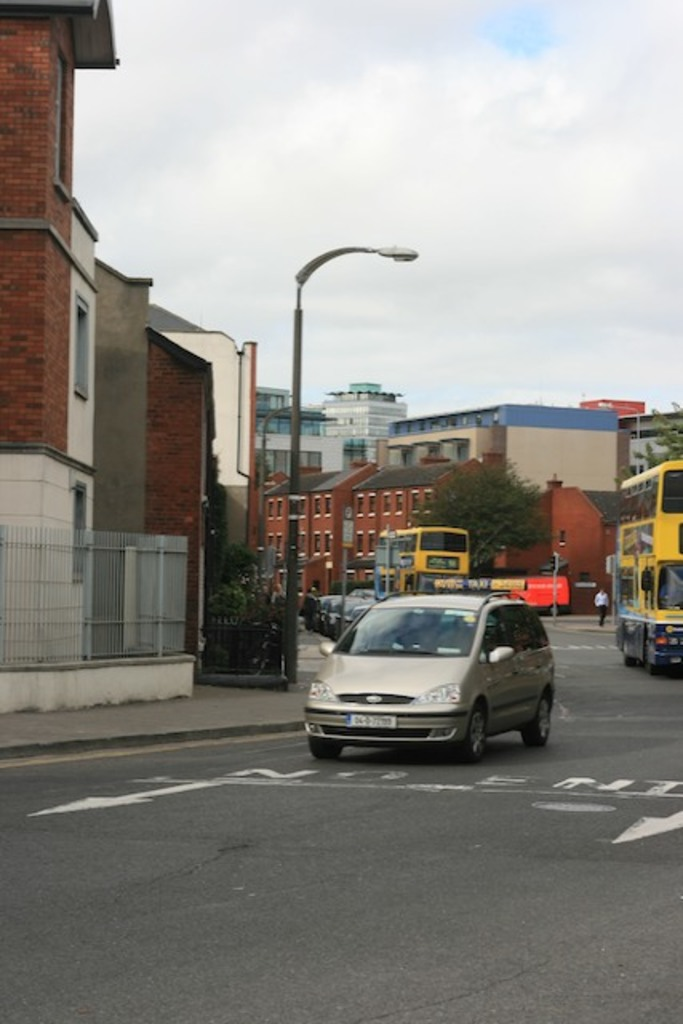Car: (300, 588, 556, 761)
